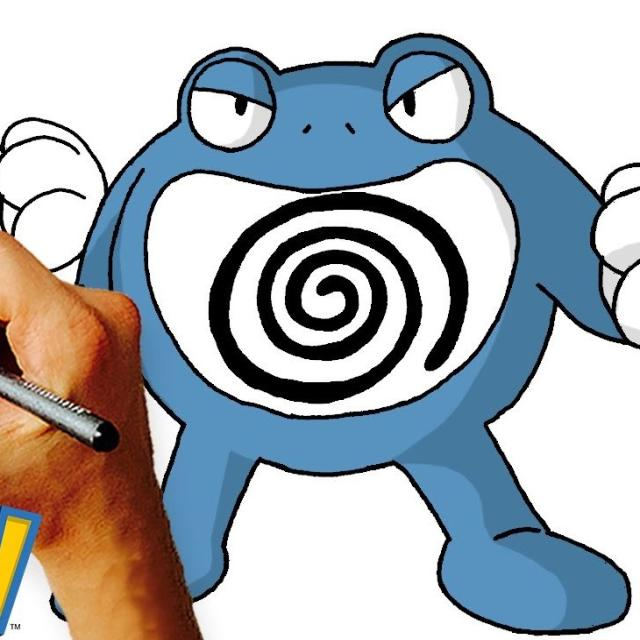Poliwrath: (160, 33, 640, 499)
